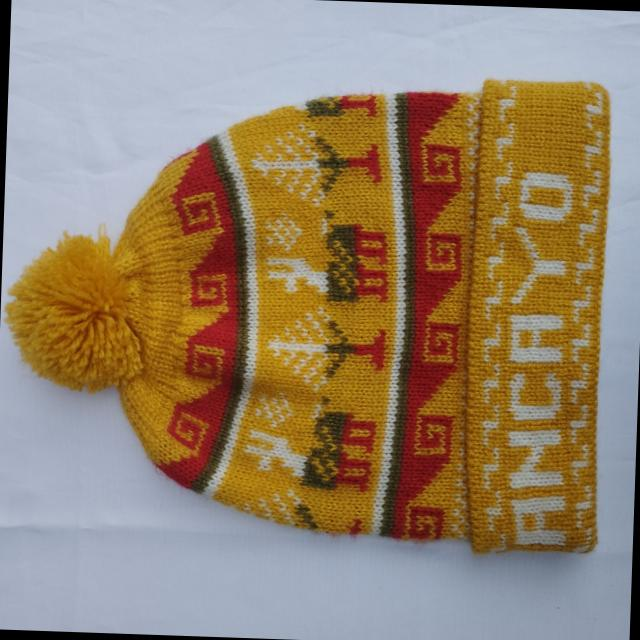Gorro: (0, 59, 615, 557)
